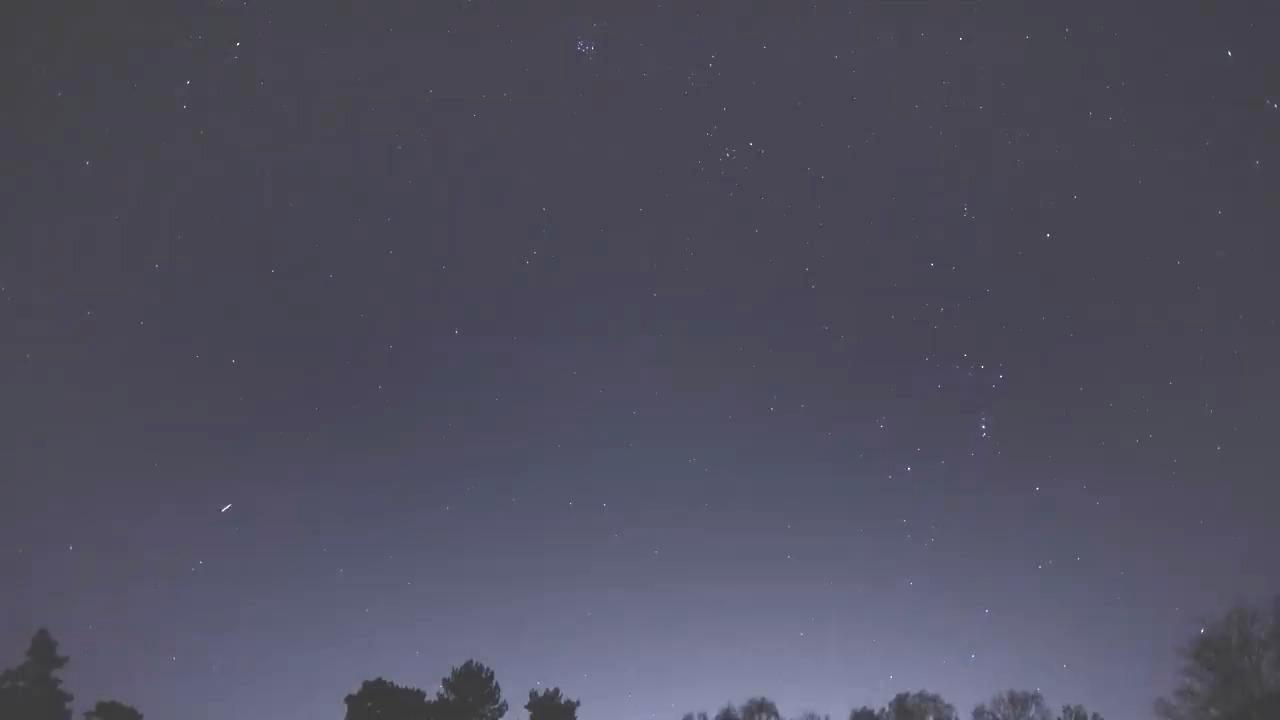meteorite: (207, 496, 245, 515)
